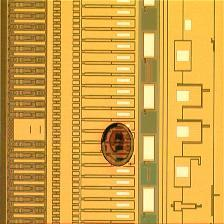PARTICLE: (99, 122, 137, 169)
